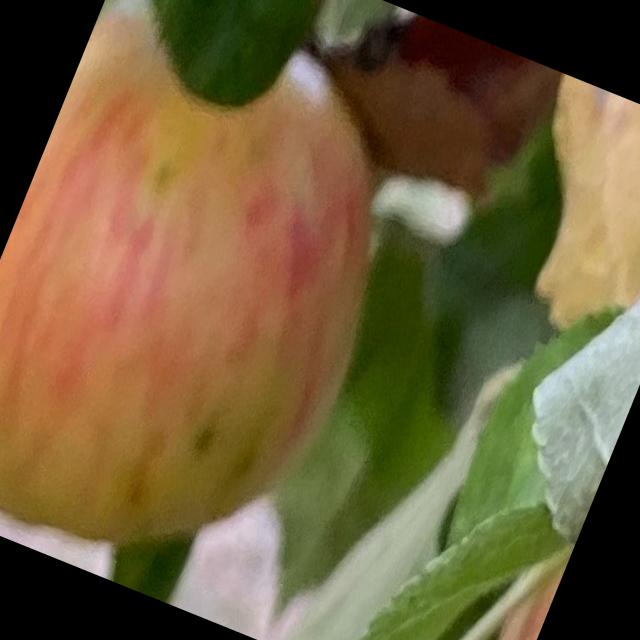Apples: (0, 0, 444, 611)
